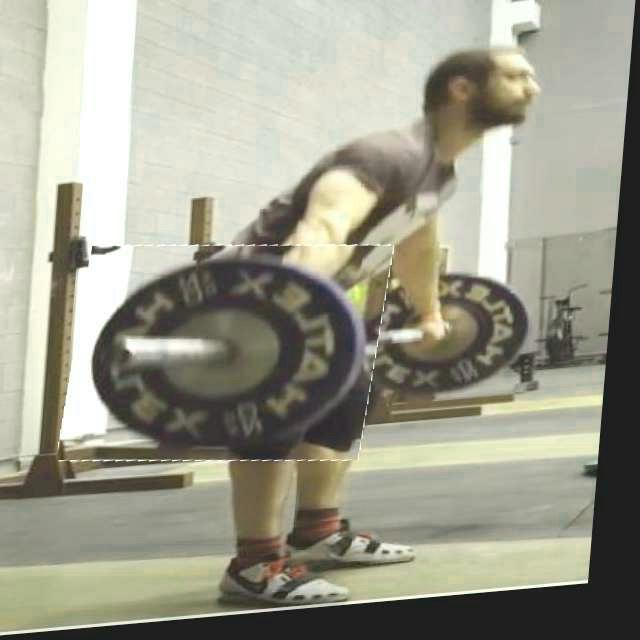barbell: (69, 233, 395, 482)
